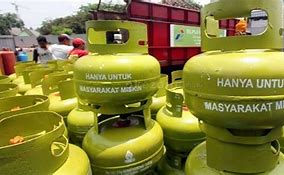gas_ijo: (183, 1, 284, 142), (73, 14, 160, 114), (83, 107, 167, 175), (1, 112, 91, 175), (185, 135, 284, 175), (156, 81, 206, 152), (1, 78, 50, 114), (9, 59, 50, 91), (43, 76, 79, 112), (26, 72, 64, 99)
